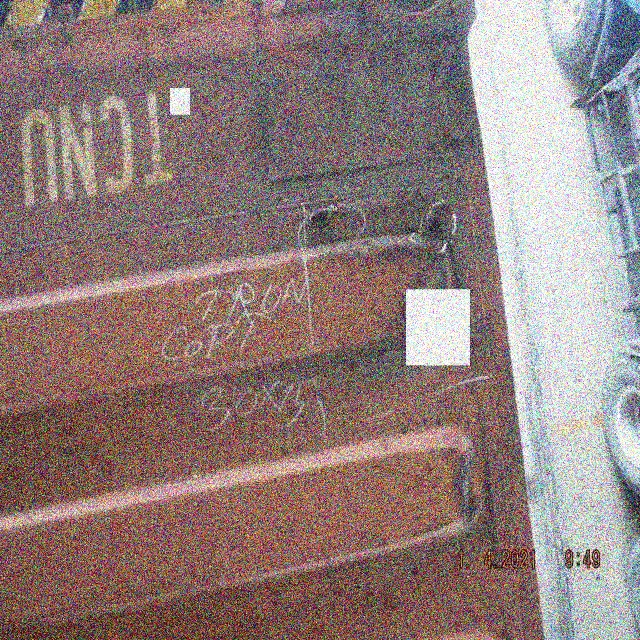Hole: (425, 217, 446, 241), (311, 213, 331, 230)
Rusty: (260, 28, 482, 185)
